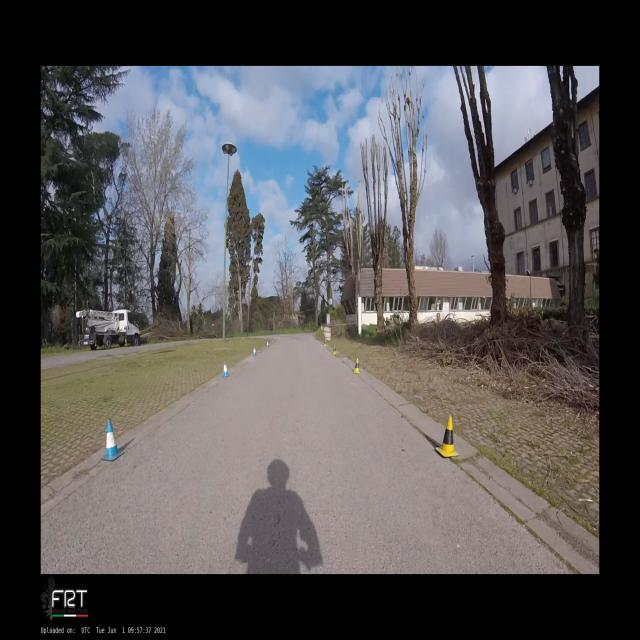blue_cone: (100, 418, 124, 462), (221, 360, 230, 377), (252, 346, 256, 356)
yellow_cone: (436, 414, 460, 458), (353, 358, 360, 374), (333, 345, 336, 355)
